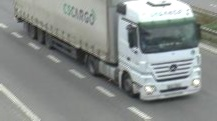truck: (13, 0, 202, 101)
